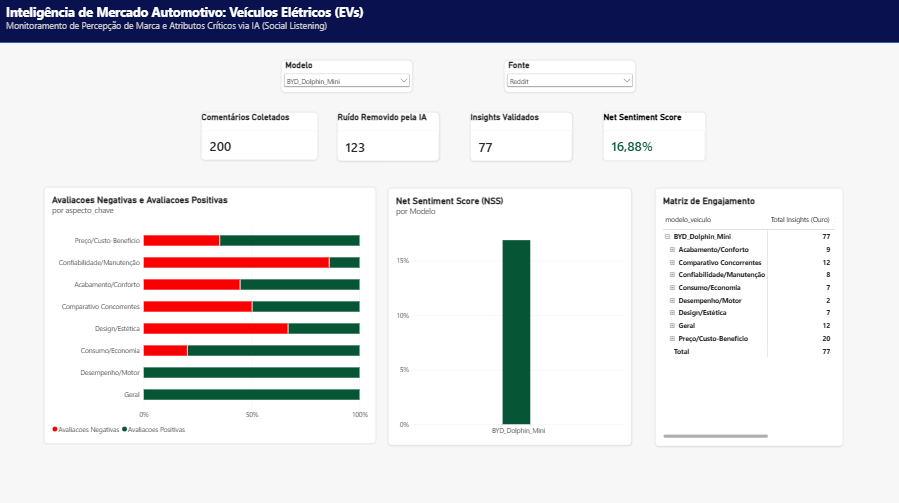

This screenshot's page, from the dashboard's own definition file:
{"tool":"powerbi","page":{"name":"Página 1","canvas":[1920,1080],"ordinal":0},"visuals":[{"type":"shape","box":[0,0,1920,95],"z":0},{"type":"slicer","fields":{"Values":["dModelo.Modelo"]},"box":[25,111,280,68.6],"z":1000},{"type":"slicer","fields":{"Values":["dFonte.Fonte"]},"box":[376,111,280,68.6],"z":2000},{"type":"cardVisual","title":"Comentários Coletados","fields":{"Data":["_Medidas.Total Volume Bruto"]},"box":[48.9,282.8,249.4,103.3],"z":2001},{"type":"cardVisual","title":"Ruído Removido pela IA","fields":{"Data":["_Medidas.Ruido Descartado"]},"box":[355,282.8,217.5,105],"z":2002},{"type":"cardVisual","title":"Insights Validados","fields":{"Data":["_Medidas.Total Insights (Ouro)"]},"box":[633.5,282.8,217.5,105],"z":2003},{"type":"cardVisual","title":"Net Sentiment Score","fields":{"Data":["_Medidas.Net Sentiment Score (NSS)"]},"box":[916.3,282.8,219,104.2],"z":2004},{"type":"donutChart","fields":{"Y":["_Medidas.Ruido Descartado","_Medidas.Total Insights (Ouro)"]},"box":[48.9,433.7,496.4,340.2],"z":2005},{"type":"hundredPercentStackedBarChart","fields":{"Category":["fAvaliacoes.aspecto_chave"],"Y":["_Medidas.Avaliacoes Negativas","_Medidas.Avaliacoes Positivas"]},"box":[608,433.7,705.5,370.4],"z":2006},{"type":"pivotTable","fields":{"Rows":["fAvaliacoes.modelo_veiculo","fAvaliacoes.aspecto_chave","fAvaliacoes.resumo_insight"],"Values":["Sum(fAvaliacoes.likes)"]},"box":[95.7,803.6,297.6,233.9],"z":2008},{"type":"clusteredColumnChart","fields":{"Category":["dModelo.Modelo"],"Y":["_Medidas.Net Sentiment Score (NSS)"]},"box":[1362.8,433.7,518.7,646.3],"z":2009}]}

Visuals, with their boxes in screenshot pixels (x1, y1, x2, y2), scaled from the page's 1920x1080 canvas onto the 899x503 screenshot:
shape: 0, 0, 898, 44
slicer - dModelo.Modelo: 12, 52, 143, 84
slicer - dFonte.Fonte: 176, 52, 307, 84
"Comentários Coletados" cardVisual: 23, 132, 140, 180
"Ruído Removido pela IA" cardVisual: 166, 132, 268, 181
"Insights Validados" cardVisual: 297, 132, 398, 181
"Net Sentiment Score" cardVisual: 429, 132, 532, 180
donutChart - _Medidas.Ruido Descartado x _Medidas.Total Insights (Ouro): 23, 202, 255, 360
hundredPercentStackedBarChart - fAvaliacoes.aspecto_chave x _Medidas.Avaliacoes Negativas: 285, 202, 615, 375
pivotTable - fAvaliacoes.modelo_veiculo x fAvaliacoes.aspecto_chave: 45, 374, 184, 483
clusteredColumnChart - dModelo.Modelo x _Medidas.Net Sentiment Score (NSS): 638, 202, 881, 502
